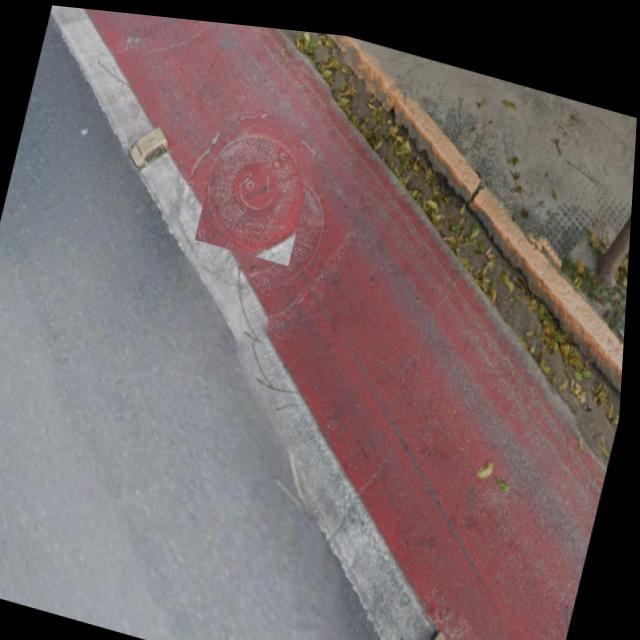Bueiro: (196, 111, 319, 261)
